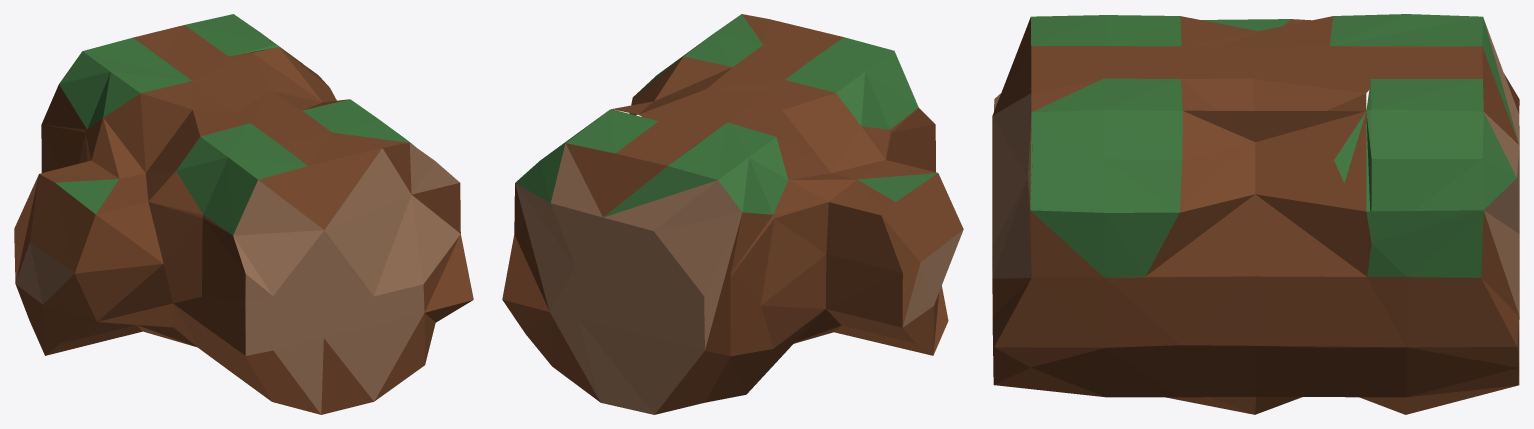
File: fallen-log.glb
3 views of the same model, side by side, from view 1: azimuth 30°, elevation 25°; view 2: azimuth 150°, elevation 25°; view 3: azimuth 270°, elevation 25° (orthographic). The views are drawn at different scales.
Bounding box in the file's own units: 0.5912 × 0.4087 × 0.6335.
